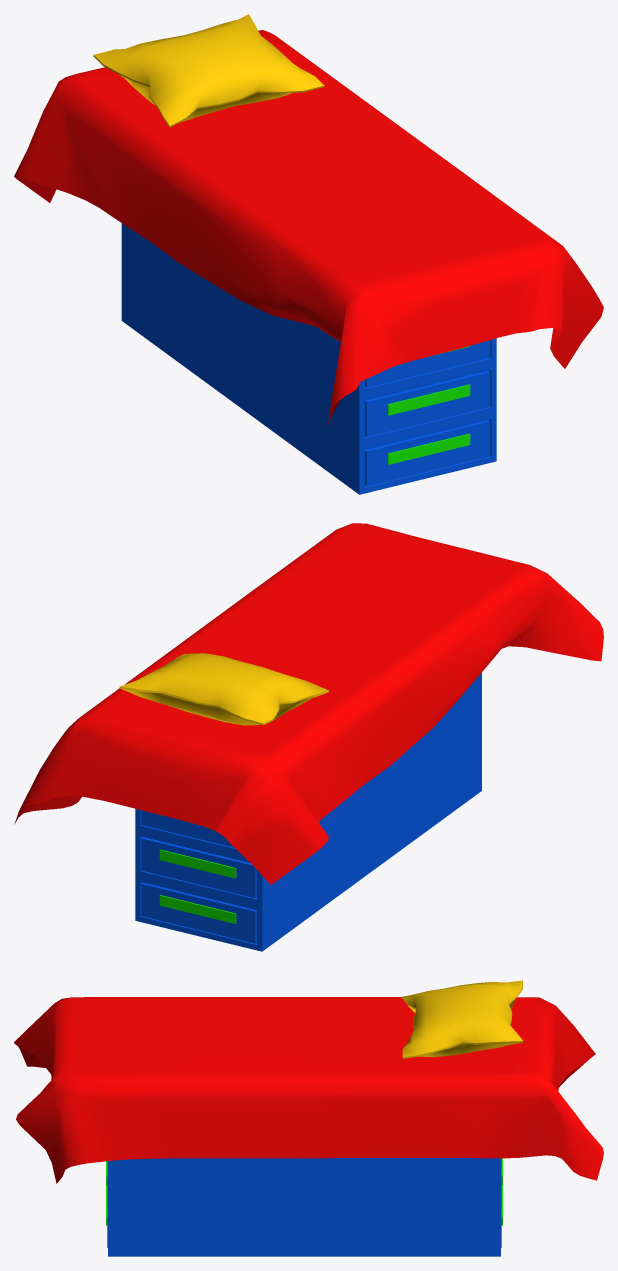
The model's file is hospital_fnt_cama1.fbx.
The picture shows the model from 3 angles, top to bottom: view 1: azimuth 30°, elevation 25°; view 2: azimuth 150°, elevation 25°; view 3: azimuth 270°, elevation 25°; orthographic projection. The views are drawn at different scales.
Parts seen in each view (by area): view 1: hospital_fnt_cama1; view 2: hospital_fnt_cama1; view 3: hospital_fnt_cama1.
Part boxes in pixels (box(x1,y1,x2,y2)): hospital_fnt_cama1: box(14, 14, 603, 494); hospital_fnt_cama1: box(14, 523, 603, 951); hospital_fnt_cama1: box(14, 980, 603, 1256).
Bounding box in the file's own units: 113 × 96.11 × 225.
